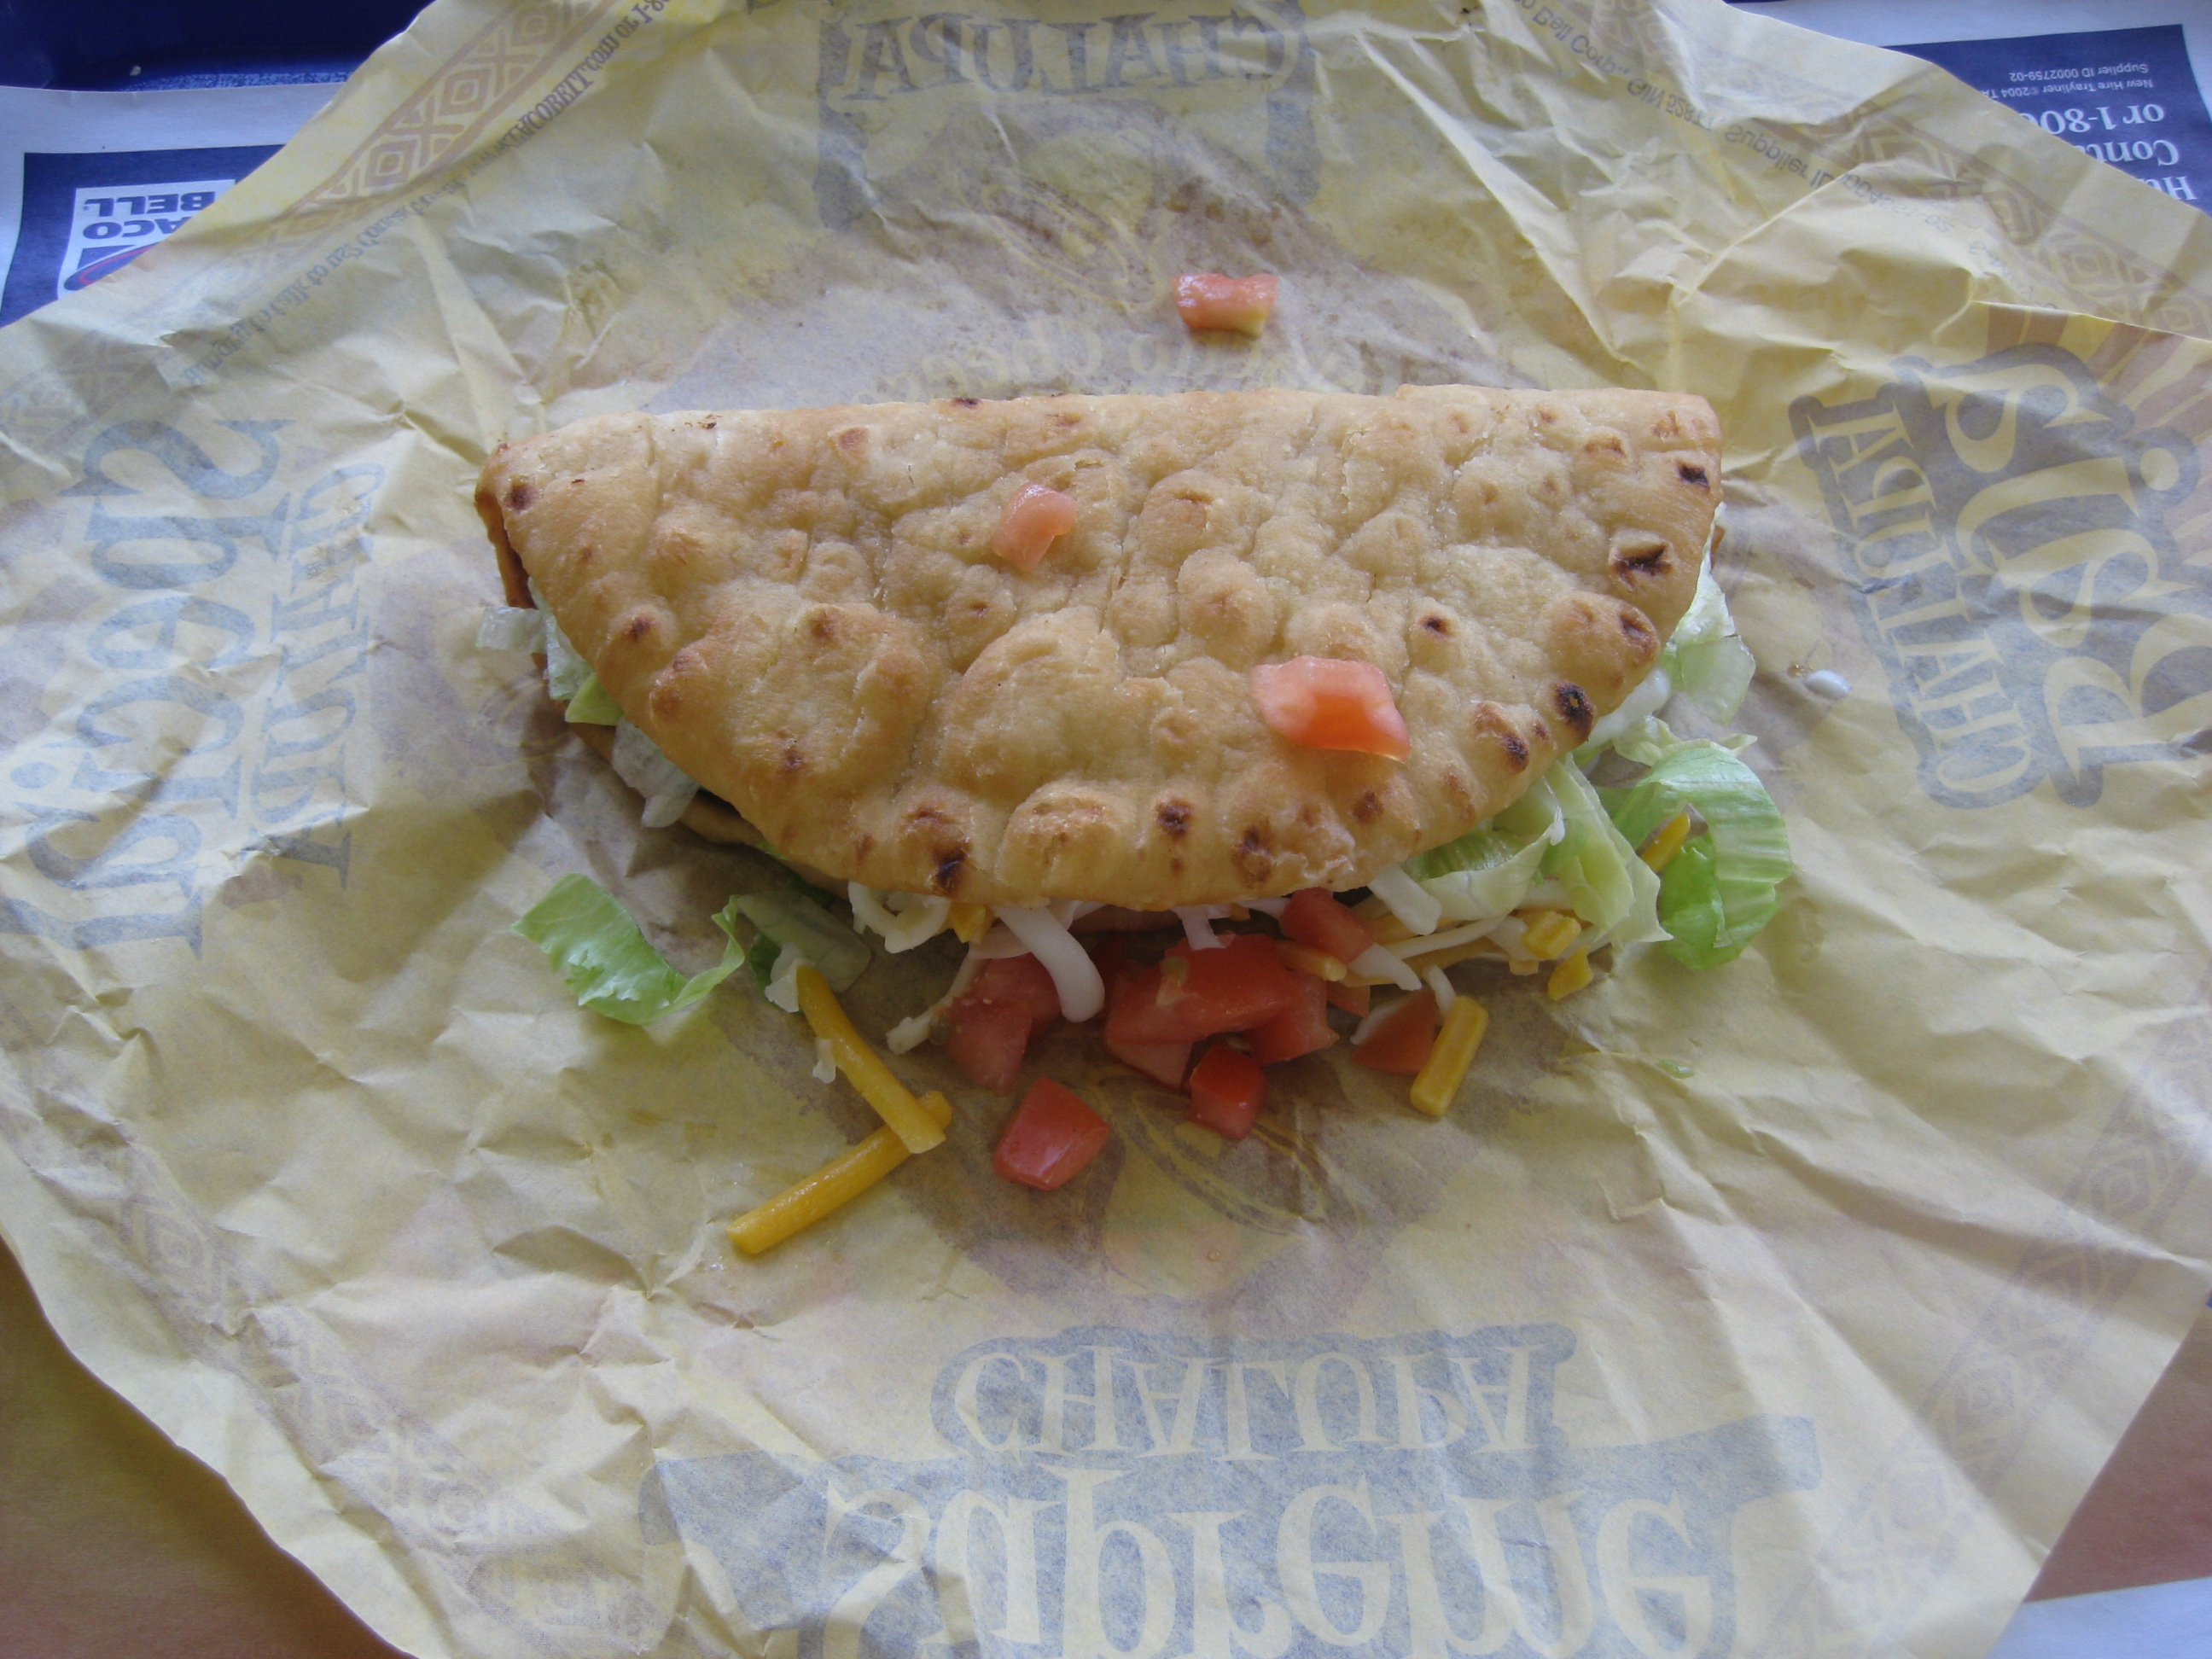taco: (426, 347, 1924, 1222)
